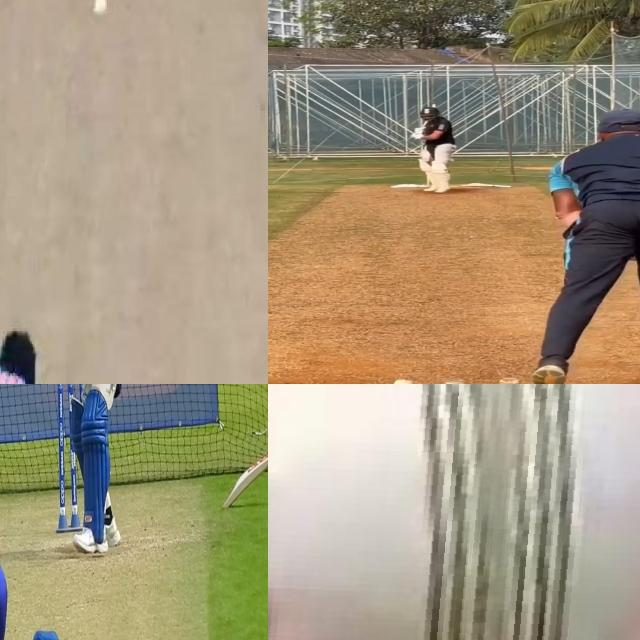Cricket ball: (268, 384, 640, 640), (93, 0, 113, 21)
Stumps: (55, 384, 84, 532)
